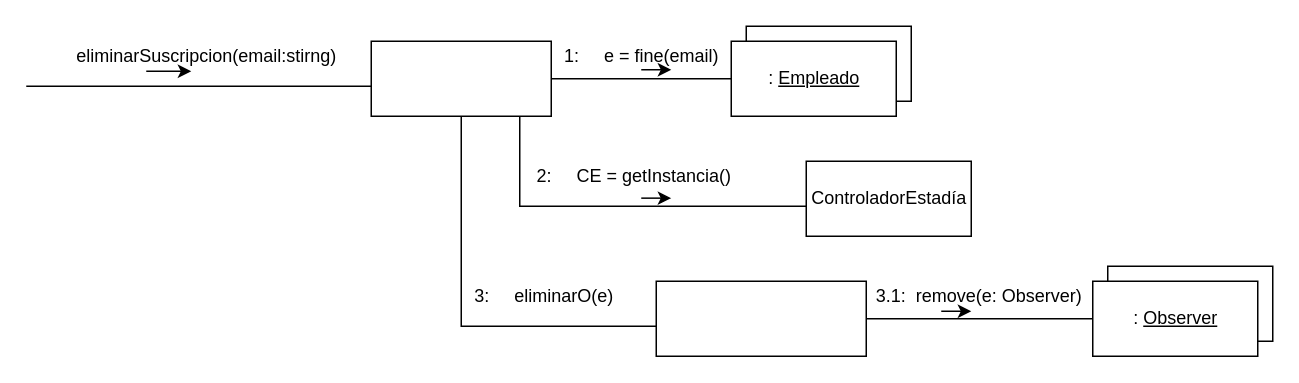
Some shapes in this 1299 by 383 pixel diagram are drawn without their labels. Each missing label, with the centre of its shape:
": ControladorUsuario" goes at (460,78).
"CE: ContorladorEstadía" goes at (760,318).
